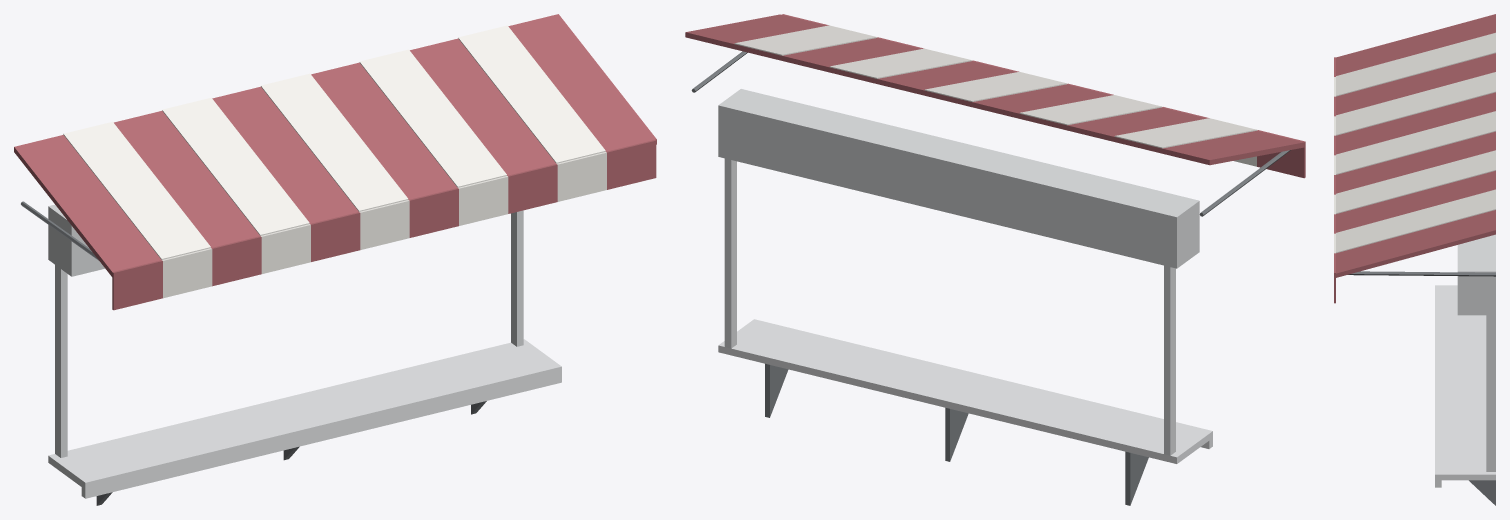
The model's file is service_window.glb.
3 views of the same model, side by side, from view 1: azimuth 30°, elevation 25°; view 2: azimuth 150°, elevation 25°; view 3: azimuth 270°, elevation 25° (orthographic). The views are drawn at different scales.
Visible parts, largest first — view 1: service_window_trim, service_window_trim_w, service_window_chrome, service_window_alu, service_window_steel_d; view 2: service_window_alu, service_window_chrome, service_window_trim, service_window_trim_w, service_window_steel_d; view 3: service_window_trim, service_window_trim_w, service_window_chrome, service_window_alu, service_window_steel_d.
Part boxes in pixels (left/top/right/bottom): service_window_trim: left=14, top=14, right=656, bottom=310; service_window_trim_w: left=63, top=25, right=606, bottom=298; service_window_chrome: left=48, top=339, right=561, bottom=498; service_window_alu: left=48, top=204, right=523, bottom=457; service_window_steel_d: left=21, top=201, right=486, bottom=505; service_window_alu: left=718, top=89, right=1199, bottom=455; service_window_chrome: left=718, top=319, right=1212, bottom=463; service_window_trim: left=685, top=14, right=1305, bottom=178; service_window_trim_w: left=734, top=25, right=1257, bottom=166; service_window_steel_d: left=691, top=51, right=1290, bottom=505; service_window_trim: left=1334, top=14, right=1495, bottom=303; service_window_trim_w: left=1334, top=32, right=1495, bottom=253; service_window_chrome: left=1435, top=285, right=1495, bottom=487; service_window_alu: left=1457, top=234, right=1495, bottom=471; service_window_steel_d: left=1348, top=271, right=1495, bottom=505.
Size of the model in its own units: 3.2 by 2.14 by 1.01.
